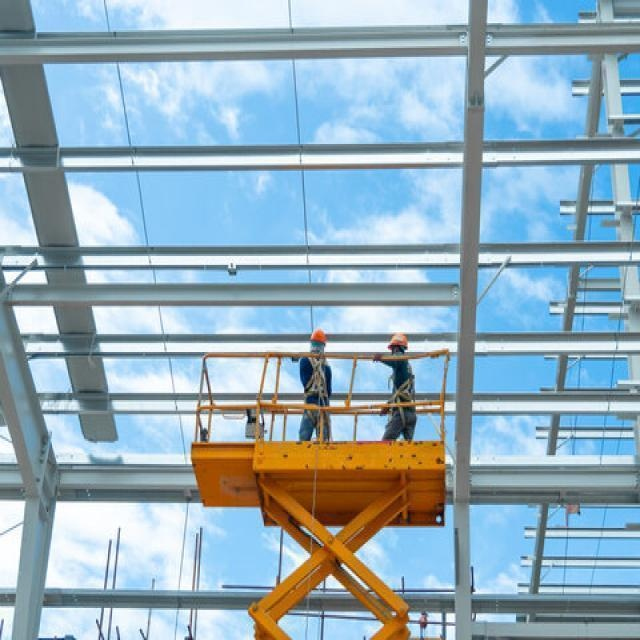Arnes_seguridad: (387, 352, 416, 424), (305, 350, 329, 425)
